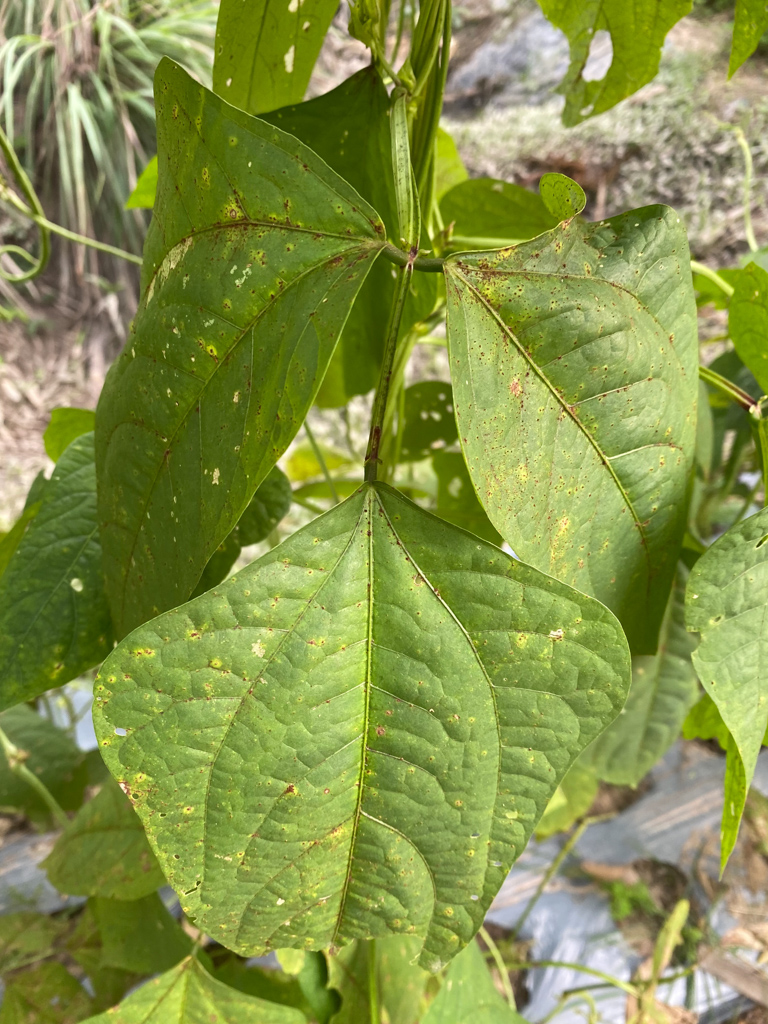Alternaria brassicicola: (94, 543, 615, 960), (96, 99, 380, 507)
Canker: (455, 256, 661, 448)
